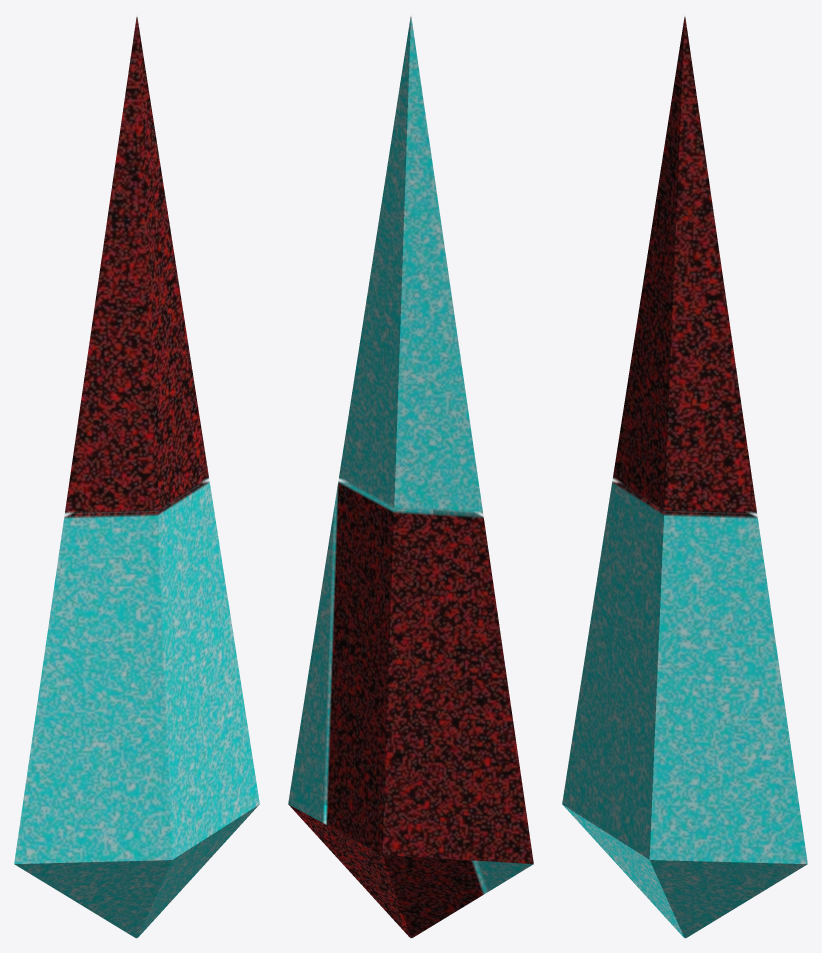
3 renders of one model, left to right at view 1: azimuth 30°, elevation 25°; view 2: azimuth 150°, elevation 25°; view 3: azimuth 330°, elevation 25°, orthographic.
Parts seen in each view (by area): view 1: SM_VFX_Barbs_01_LOD0; view 2: SM_VFX_Barbs_01_LOD0; view 3: SM_VFX_Barbs_01_LOD0.
Part boxes in pixels (bbox=[...]): SM_VFX_Barbs_01_LOD0: bbox=[14, 16, 259, 938]; SM_VFX_Barbs_01_LOD0: bbox=[288, 16, 533, 938]; SM_VFX_Barbs_01_LOD0: bbox=[562, 16, 807, 938].
Bounding box in the file's own units: 0.02 × 0.0719 × 0.009.
Materials: 1 (1 with a texture image).
